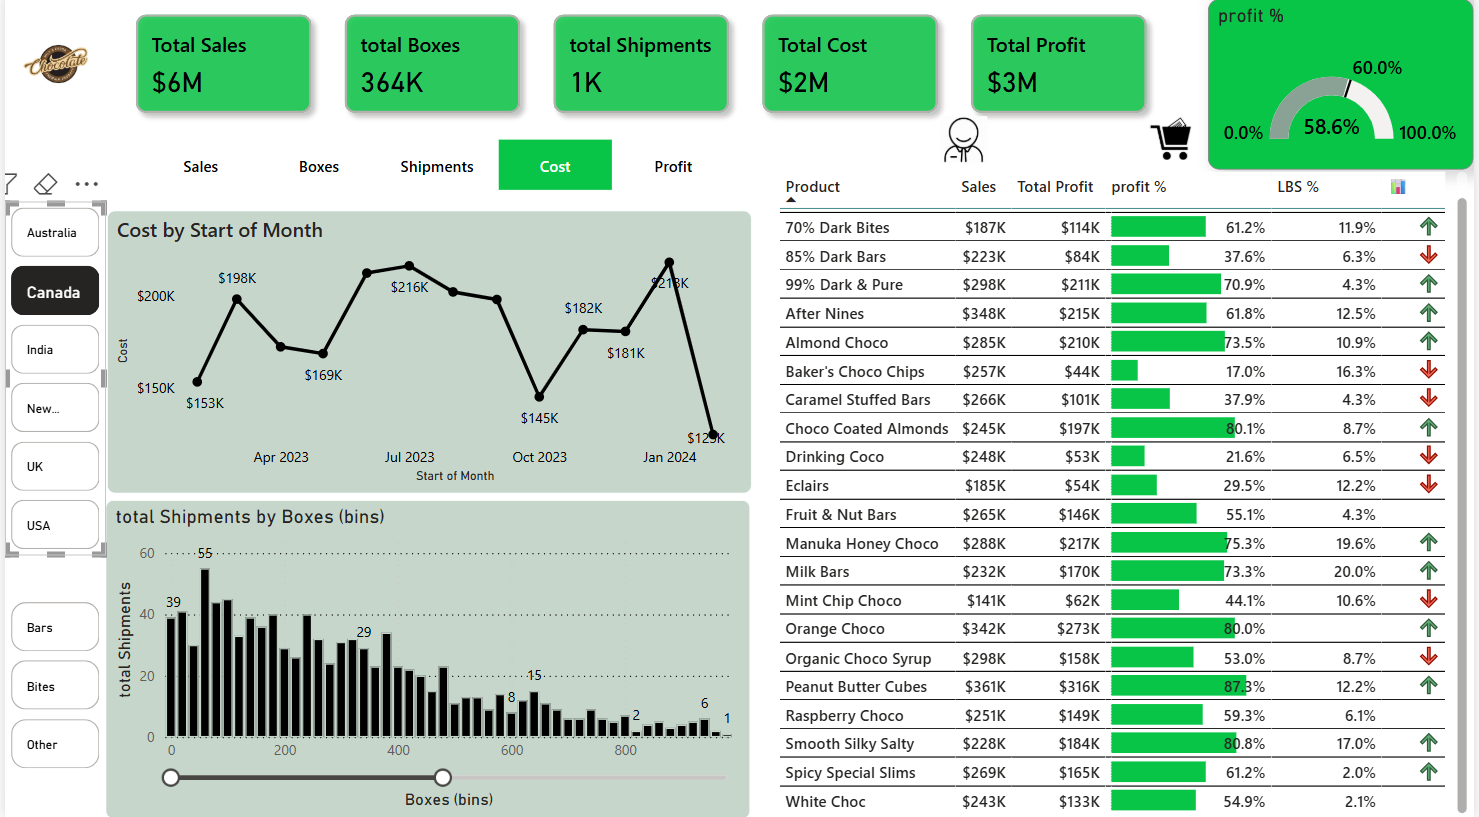

Layout of this report page (visuals, bound fields, positions):
{"tool":"powerbi","page":{"name":"Page 4","canvas":[1280,720],"ordinal":3},"visuals":[{"type":"cardVisual","fields":{"Data":["_Measure.Total Sales","_Measure.total Boxes","_Measure.total Shipments","_Measure.Total Cost","_Measure.Total Profit"]},"box":[97.1,1.4,918.6,120],"z":0},{"type":"gauge","fields":{"Y":["_Measure.profit %"]},"box":[1048.6,5.7,231.4,148.6],"z":1000},{"type":"lineChart","fields":{"Y":["_Measure.Total Cost"],"Category":["calendar.Start of Month"]},"box":[88.3,190,561.7,246.7],"z":2000},{"type":"advancedSlicerVisual","fields":{"Values":["Measure selection.Measure selection"]},"box":[115,121.7,525,56.7],"z":3000},{"type":"columnChart","fields":{"Category":["shipments.Boxes (bins)"],"Y":["_Measure.total Shipments"]},"box":[88,442,562,278],"z":4000},{"type":"tableEx","title":"Product details","fields":{"Values":["products.Product","_Measure.Total Sales","_Measure.Total Profit","_Measure.profit %","_Measure.LBS %","_Measure.Profit target Indicator"]},"box":[670,150,610,570],"z":6000},{"type":"shape","box":[0,1.5,87.7,719],"z":7000},{"type":"advancedSlicerVisual","fields":{"Values":["locations.Geo"]},"box":[0,181.4,87.1,308.6],"z":8000},{"type":"advancedSlicerVisual","fields":{"Values":["products.Category"]},"box":[0,525.7,87.1,155.7],"z":9000},{"type":"image","title":"sales person png","box":[795.7,101.4,78.6,51.4],"z":10000},{"type":"image","title":"product png","box":[991.4,102.9,50,47.1],"z":11000},{"type":"image","box":[0,2.9,88.6,118.6],"z":12000}]}

Visuals, with their boxes in screenshot pixels (x1, y1, x2, y2), scaled from the page's 1280x720 canvas onto the 1479x817 screenshot:
cardVisual - _Measure.Total Sales x _Measure.total Boxes: 112 2 1174 138
gauge - _Measure.profit %: 1212 6 1478 175
lineChart - _Measure.Total Cost x calendar.Start of Month: 102 216 751 496
advancedSlicerVisual - Measure selection.Measure selection: 133 138 740 202
columnChart - shipments.Boxes (bins) x _Measure.total Shipments: 102 502 751 816
"Product details" tableEx: 774 170 1478 816
shape: 0 2 101 816
advancedSlicerVisual - locations.Geo: 0 206 101 556
advancedSlicerVisual - products.Category: 0 597 101 773
"sales person png" image: 919 115 1010 173
"product png" image: 1146 117 1203 170
image: 0 3 102 138
